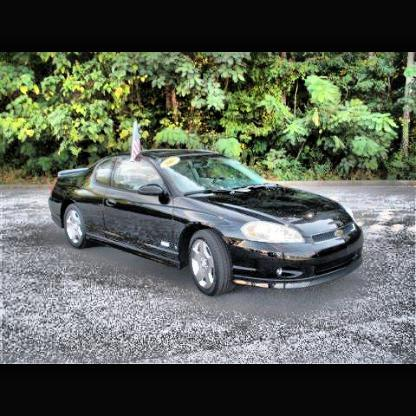Chevrolet Monte Carlo Coupe 2007: (47, 152, 374, 306)
